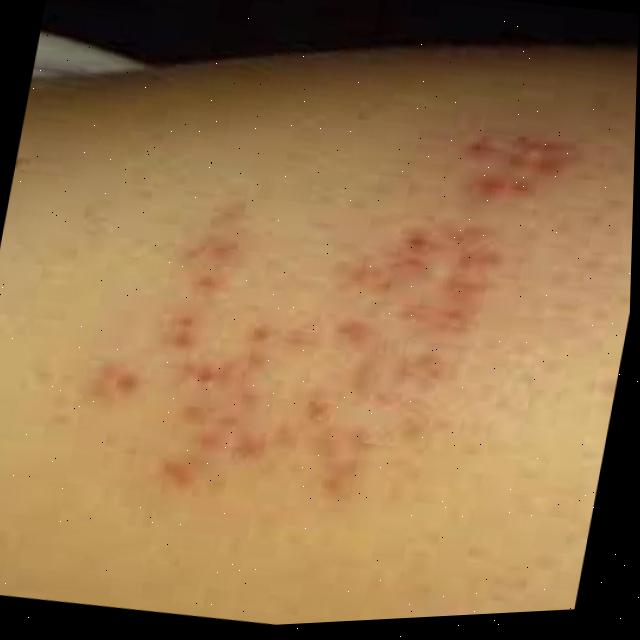Shingles: (81, 69, 569, 530)
